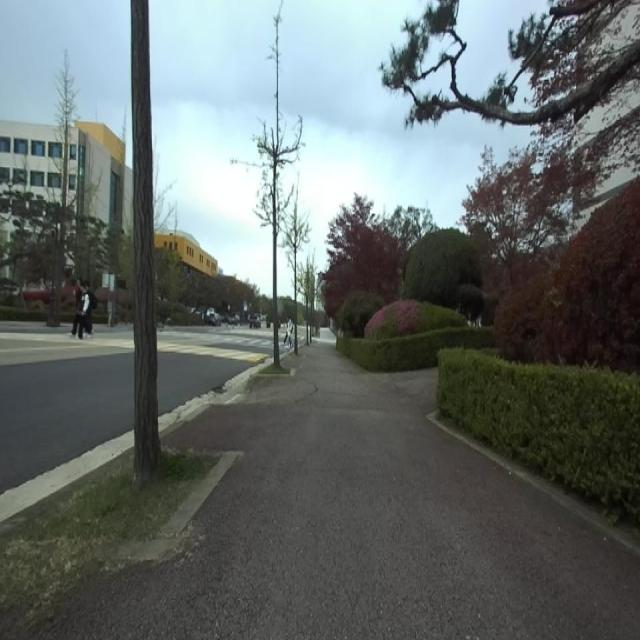sidewalk: (0, 336, 640, 640), (0, 451, 134, 534), (160, 408, 204, 439), (160, 447, 196, 451)
